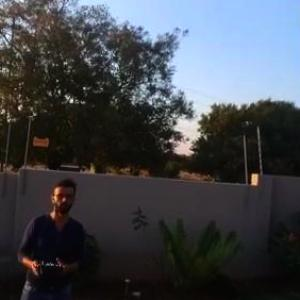follow: (13, 174, 90, 299)
